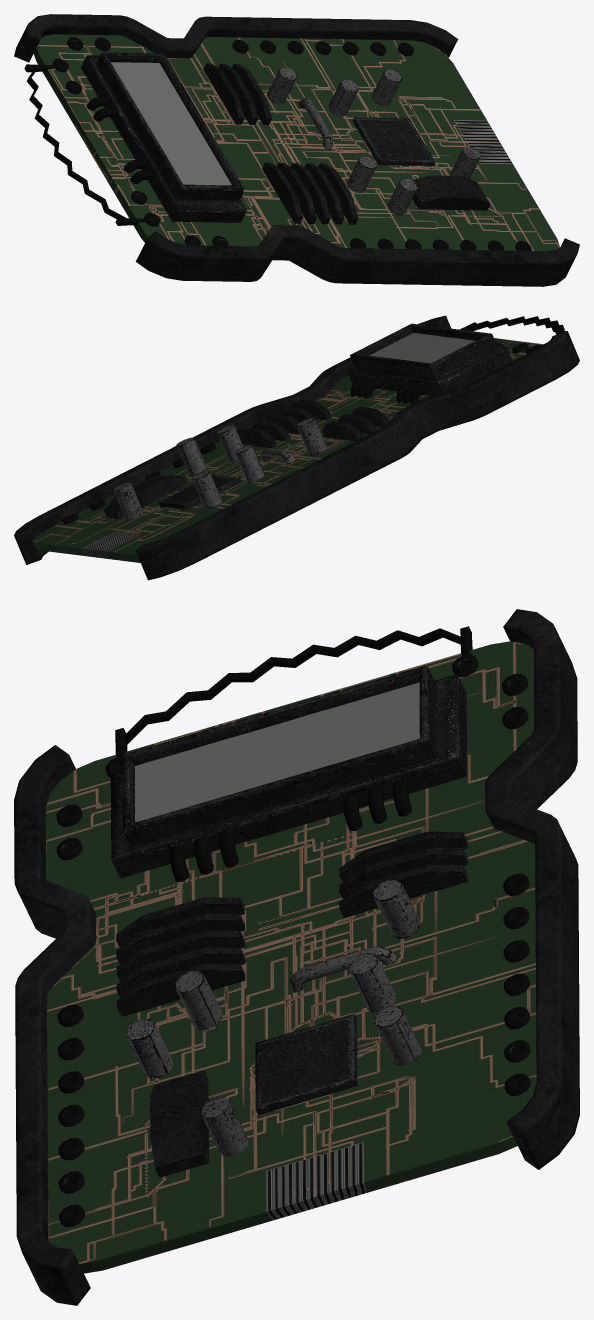
The model's file is ChaosKeycardPickup.fbx.
The picture shows the model from 3 angles, top to bottom: view 1: azimuth 30°, elevation 25°; view 2: azimuth 210°, elevation 25°; view 3: azimuth 270°, elevation 25°; orthographic projection. The views are drawn at different scales.
Visible parts, largest first — view 1: CICard, CICardPlastic; view 2: CICard, CICardPlastic; view 3: CICard, CICardPlastic.
Part boxes in pixels (x1,y1,x2,y2): CICard: [24, 34, 560, 251]; CICardPlastic: [14, 14, 579, 286]; CICard: [33, 316, 565, 562]; CICardPlastic: [14, 315, 579, 580]; CICard: [45, 626, 536, 1273]; CICardPlastic: [14, 609, 579, 1305].
Bounding box in the file's own units: 0.3545 × 0.1691 × 0.2247.
Materials: 2 (2 with a texture image).
